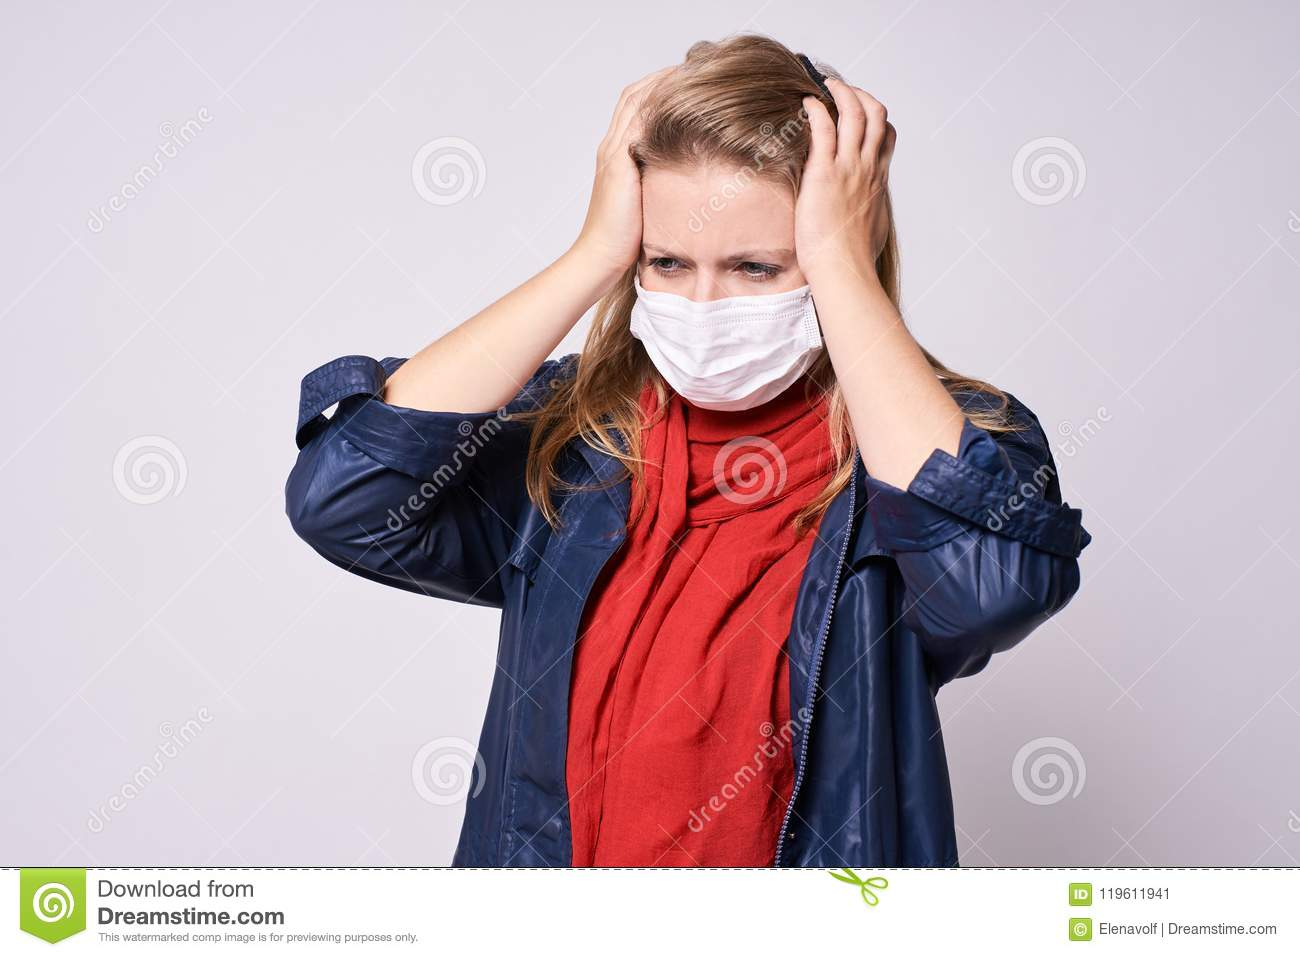mask: (614, 277, 828, 432)
